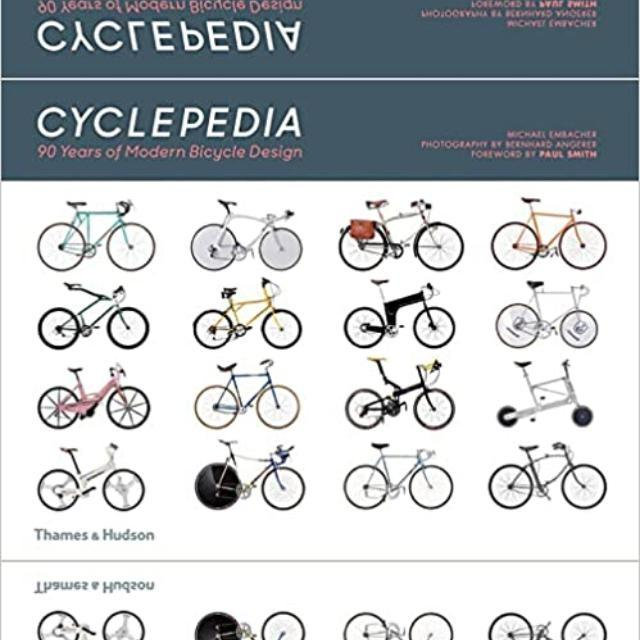obstacle: (34, 183, 166, 275), (485, 195, 613, 281), (340, 272, 470, 356), (335, 193, 469, 274), (343, 351, 467, 435), (27, 276, 164, 350), (488, 271, 608, 355), (488, 353, 608, 435), (188, 195, 310, 275), (488, 438, 610, 514), (184, 356, 308, 430), (191, 436, 309, 512), (34, 441, 154, 514), (186, 278, 310, 348), (335, 442, 459, 508), (488, 606, 610, 640), (33, 606, 154, 640), (191, 609, 309, 640), (335, 613, 459, 640)
